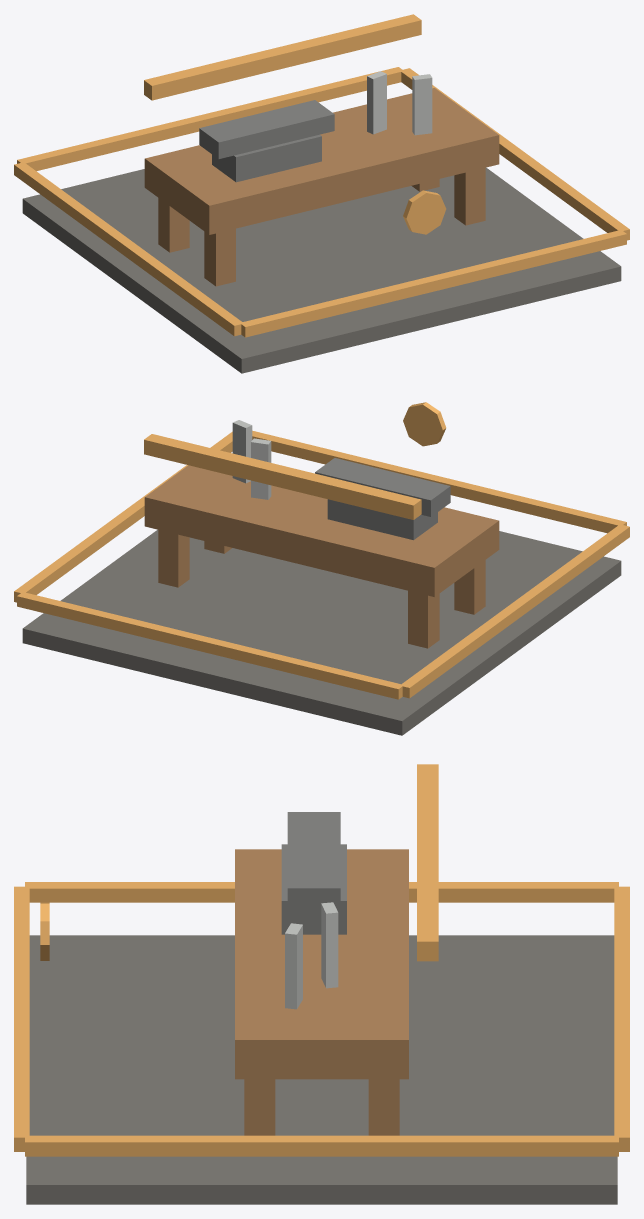
File: t6_toolmaker.glb
3 views of the same model, one above another, from view 1: azimuth 30°, elevation 25°; view 2: azimuth 150°, elevation 25°; view 3: azimuth 270°, elevation 25° (orthographic). The views are drawn at different scales.
Parts seen in each view (by area): view 1: FootprintBase, Workbench, TierFrontTrim, ToolRack, TierBackTrim, TierLeftTrim, AnvilTop, TierRightTrim, AnvilBody, BenchLeg, BenchLeg.002, TierEmblem (+3 smaller); view 2: FootprintBase, Workbench, TierBackTrim, ToolRack, TierFrontTrim, TierLeftTrim, AnvilTop, TierRightTrim, AnvilBody, BenchLeg.001, BenchLeg.003, TierEmblem (+3 smaller); view 3: FootprintBase, Workbench, TierRightTrim, TierLeftTrim, AnvilTop, ToolRack, TierFrontTrim, TierBackTrim, AnvilBody, BenchLeg.002, BenchLeg.003, ToolBlankA (+1 smaller).
Boxes of the visible parts, box(x1,y1,x2,y2) form: FootprintBase: box(22, 167, 621, 373); Workbench: box(144, 88, 499, 234); TierFrontTrim: box(241, 230, 626, 337); ToolRack: box(144, 14, 421, 100); TierBackTrim: box(17, 67, 403, 171); TierLeftTrim: box(14, 162, 243, 336); AnvilTop: box(199, 100, 334, 158); TierRightTrim: box(401, 68, 629, 240); AnvilBody: box(212, 134, 321, 182); BenchLeg: box(204, 228, 235, 286); BenchLeg.002: box(454, 167, 485, 225); TierEmblem: box(403, 190, 446, 234); FootprintBase: box(22, 529, 621, 735); Workbench: box(144, 465, 499, 596); TierBackTrim: box(17, 592, 402, 699); ToolRack: box(144, 434, 421, 519); TierFrontTrim: box(252, 430, 626, 533); TierLeftTrim: box(400, 524, 629, 698); AnvilTop: box(315, 458, 450, 516); TierRightTrim: box(14, 431, 232, 602); AnvilBody: box(327, 499, 437, 540); BenchLeg.001: box(408, 590, 439, 648); BenchLeg.003: box(158, 530, 189, 587); TierEmblem: box(403, 402, 446, 446); FootprintBase: box(26, 935, 617, 1204); Workbench: box(235, 849, 408, 1079); TierRightTrim: box(25, 1135, 618, 1156); TierLeftTrim: box(25, 882, 618, 902); AnvilTop: box(287, 812, 340, 910); ToolRack: box(417, 764, 438, 961); TierFrontTrim: box(14, 886, 29, 1151); TierBackTrim: box(614, 886, 629, 1151); AnvilBody: box(281, 844, 346, 934); BenchLeg.002: box(244, 1079, 275, 1135); BenchLeg.003: box(368, 1079, 399, 1135); ToolBlankA: box(321, 902, 338, 988).
Bounding box in the file's own units: 3.96 × 1.61 × 3.96.
